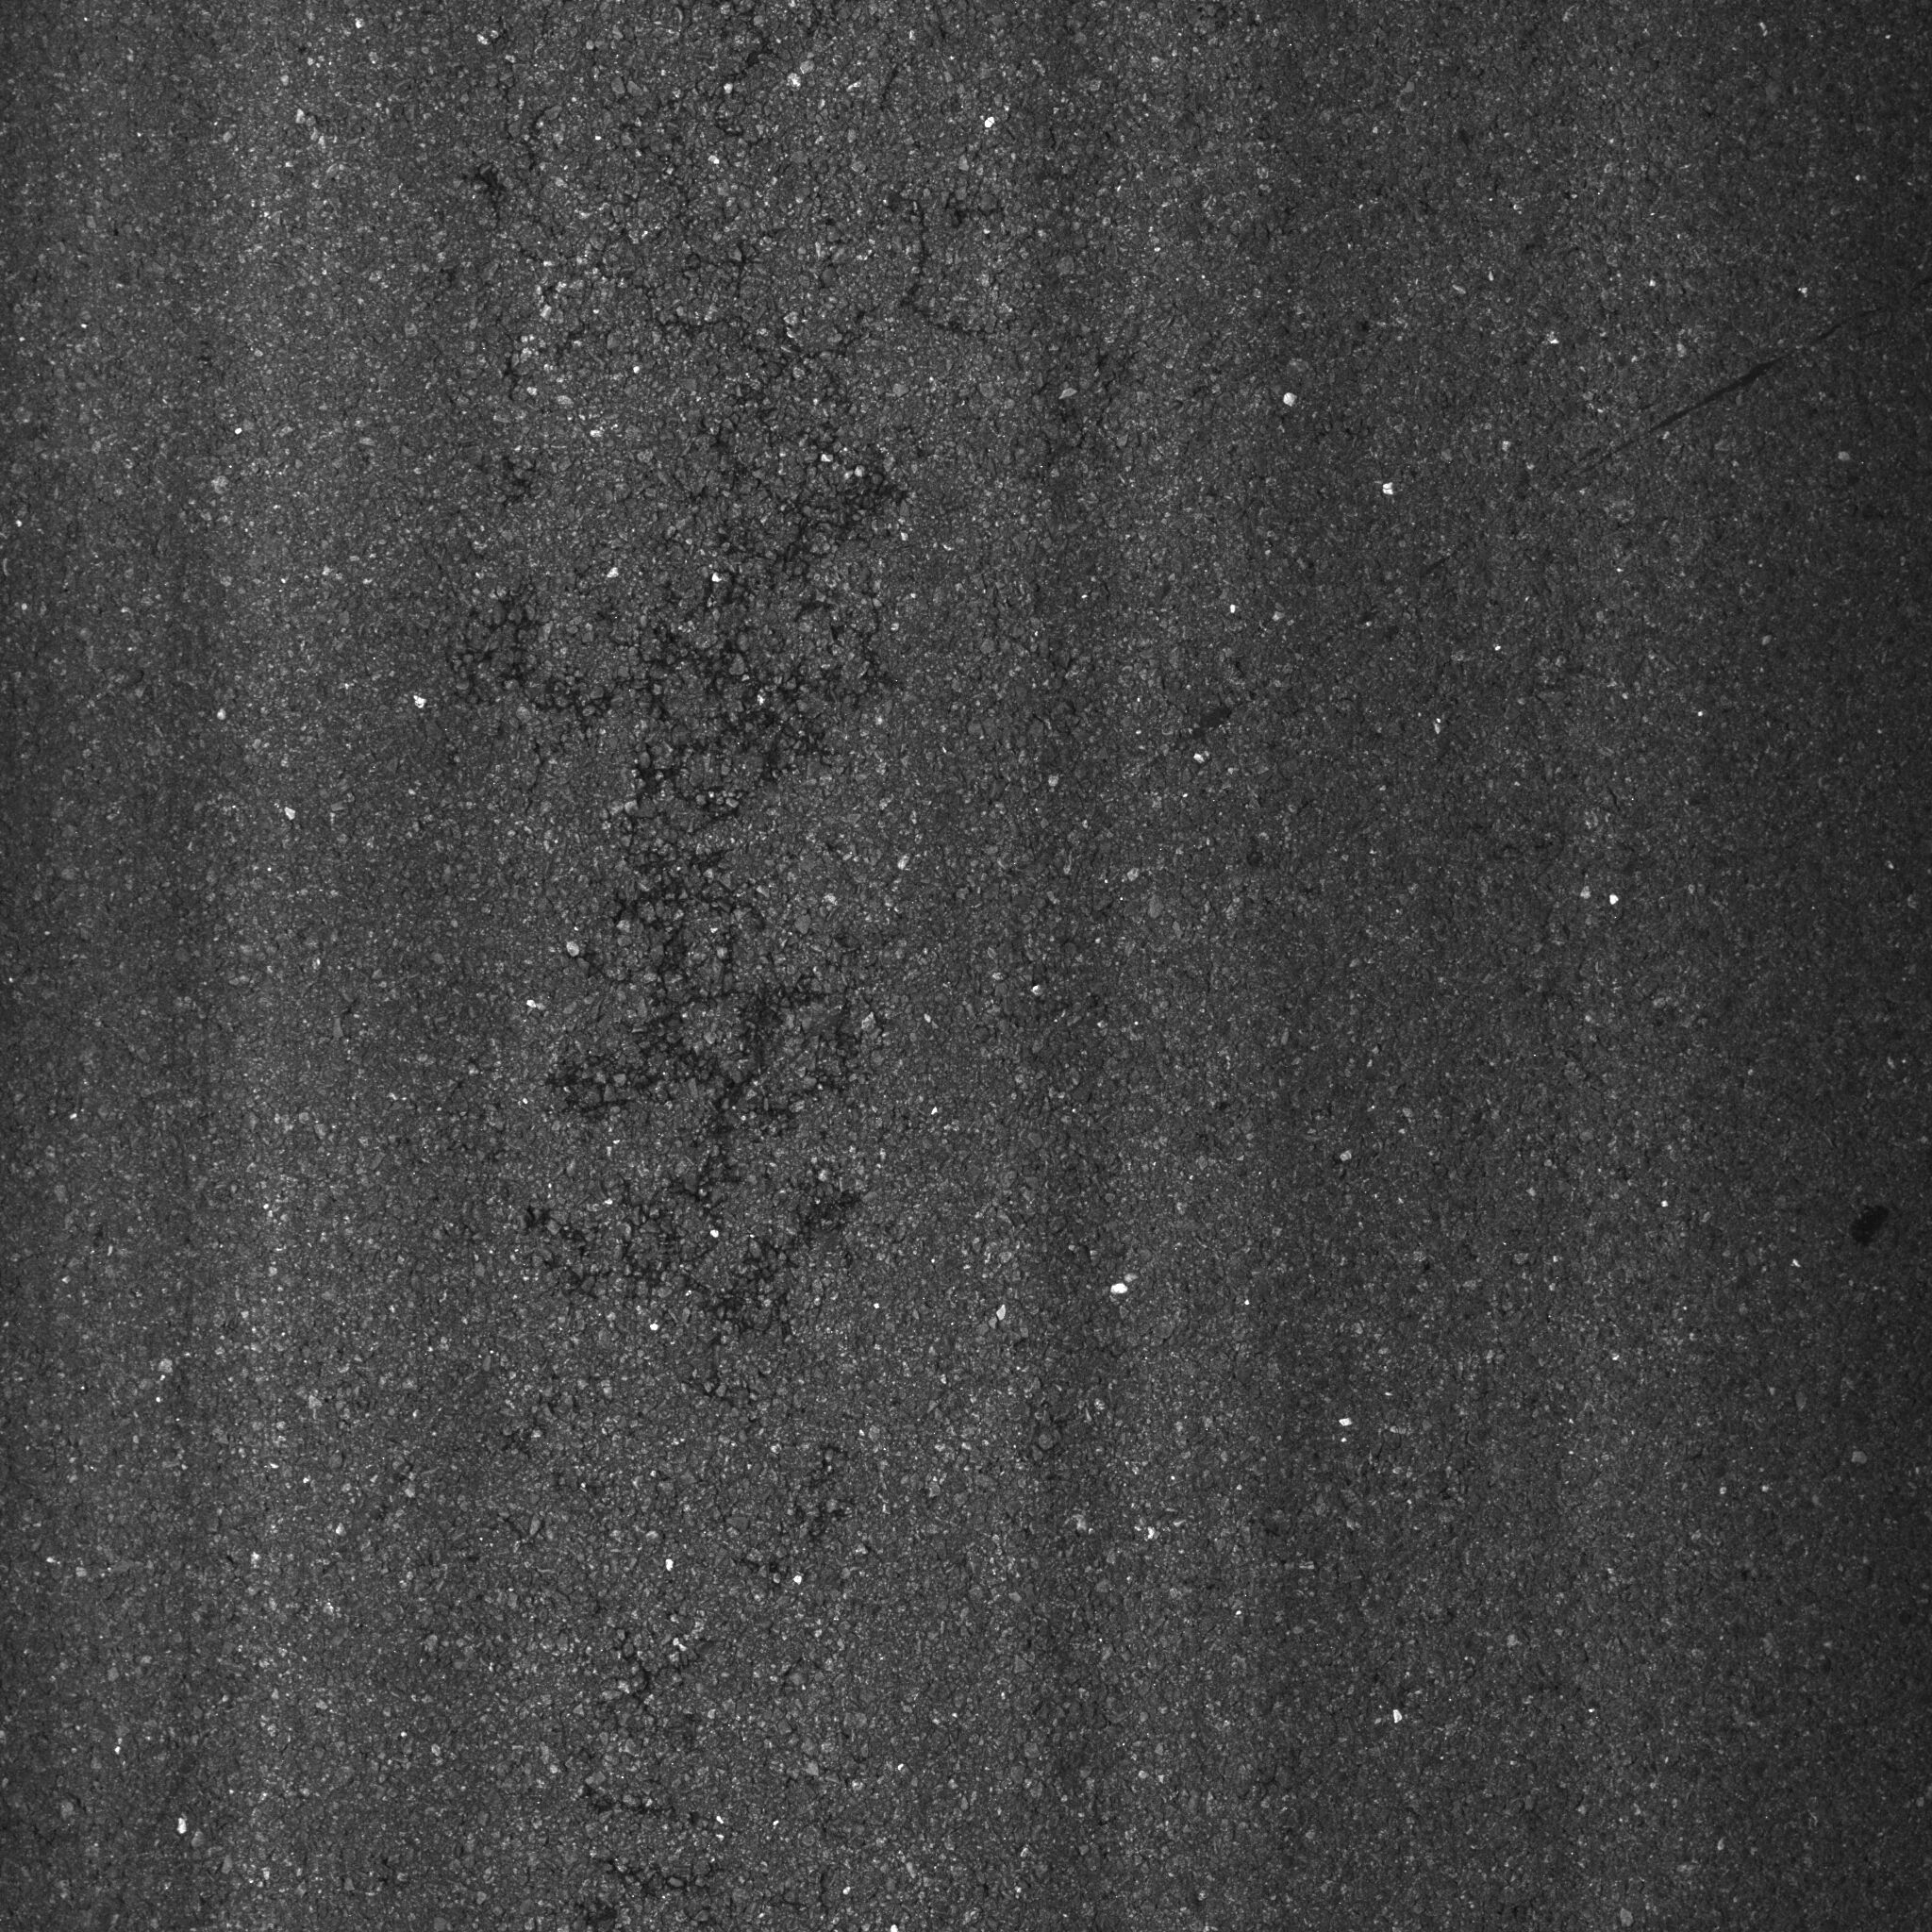alligator: (433, 51, 1246, 1376)
